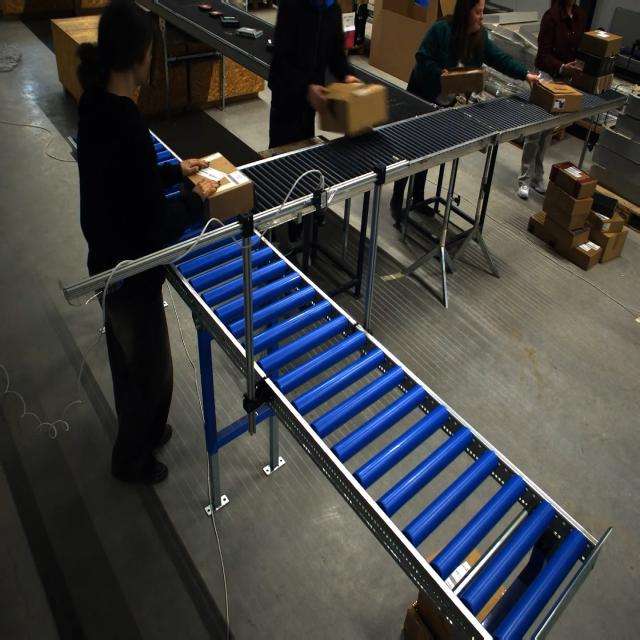box: (186, 154, 254, 225), (327, 80, 381, 134)
product: (237, 27, 263, 39), (220, 17, 240, 27), (197, 3, 212, 11), (265, 40, 274, 51)
